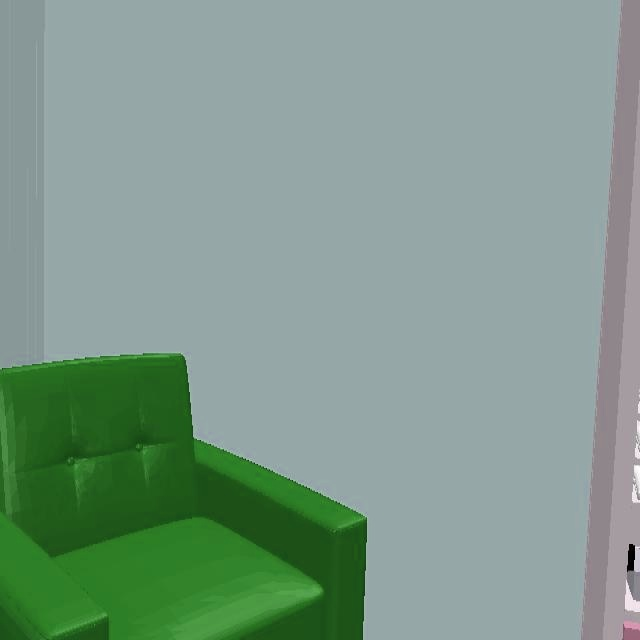sofa: (0, 353, 367, 640)
wardrobe: (581, 0, 640, 640)
